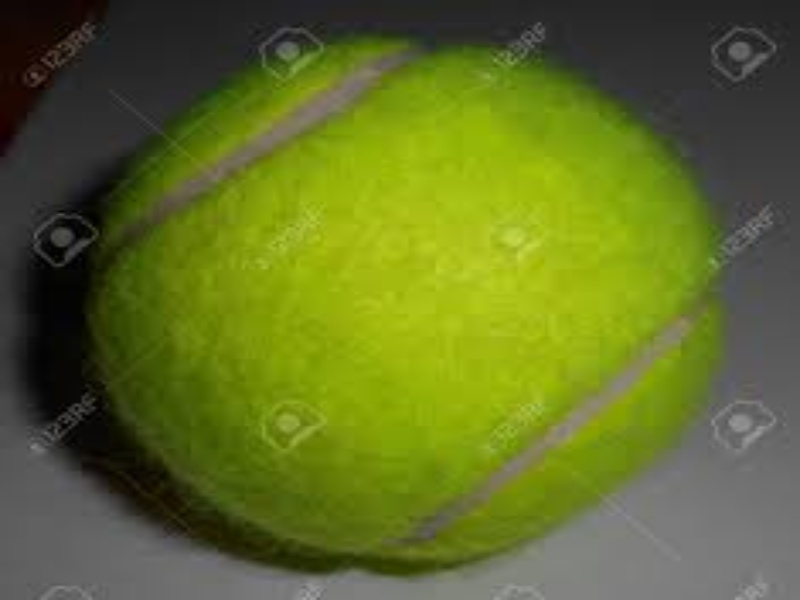tennis ball: (75, 30, 734, 600)
